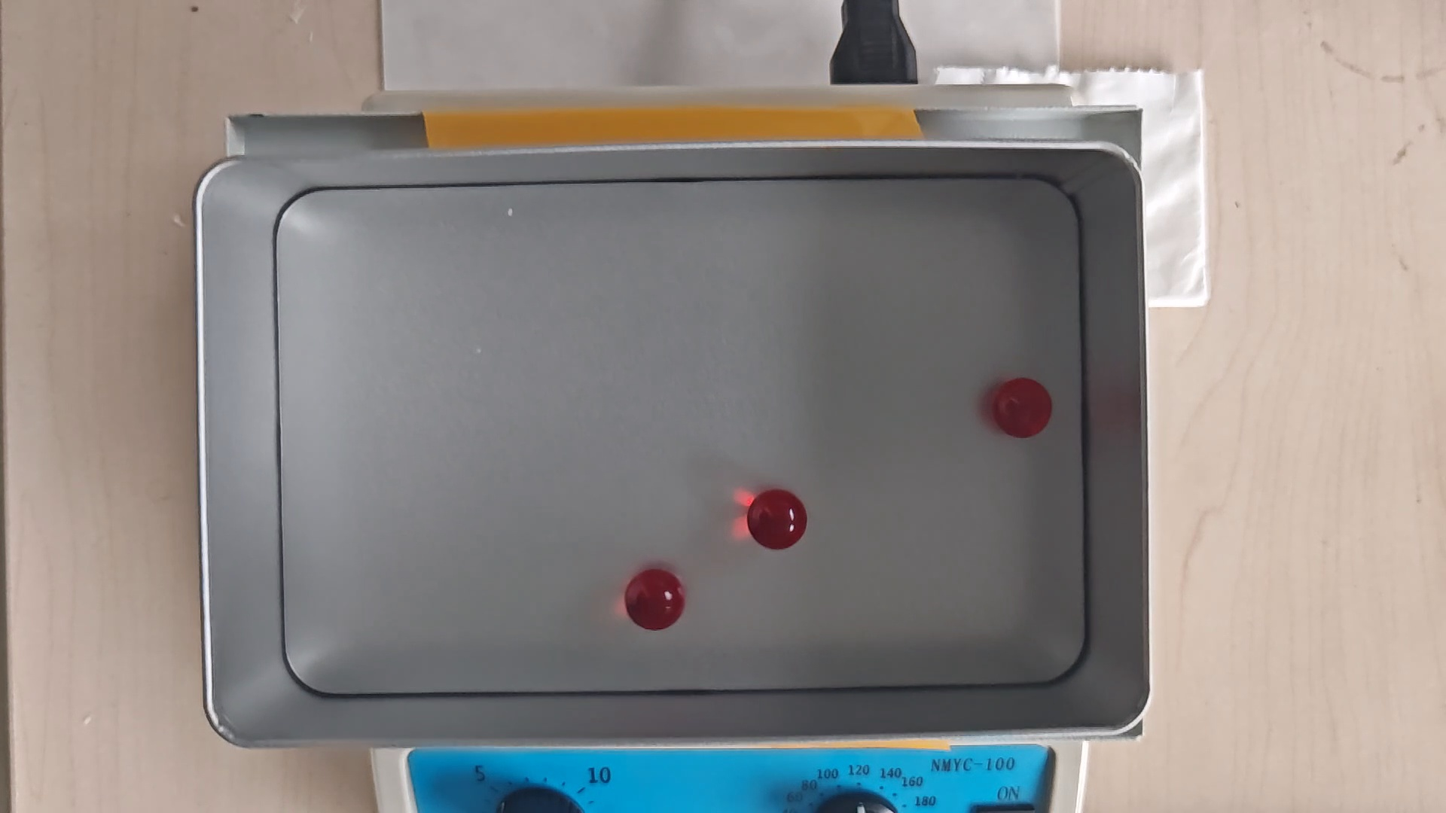ball: (746, 487, 810, 550), (624, 569, 685, 631), (995, 376, 1052, 440)
container: (279, 178, 1084, 692)
